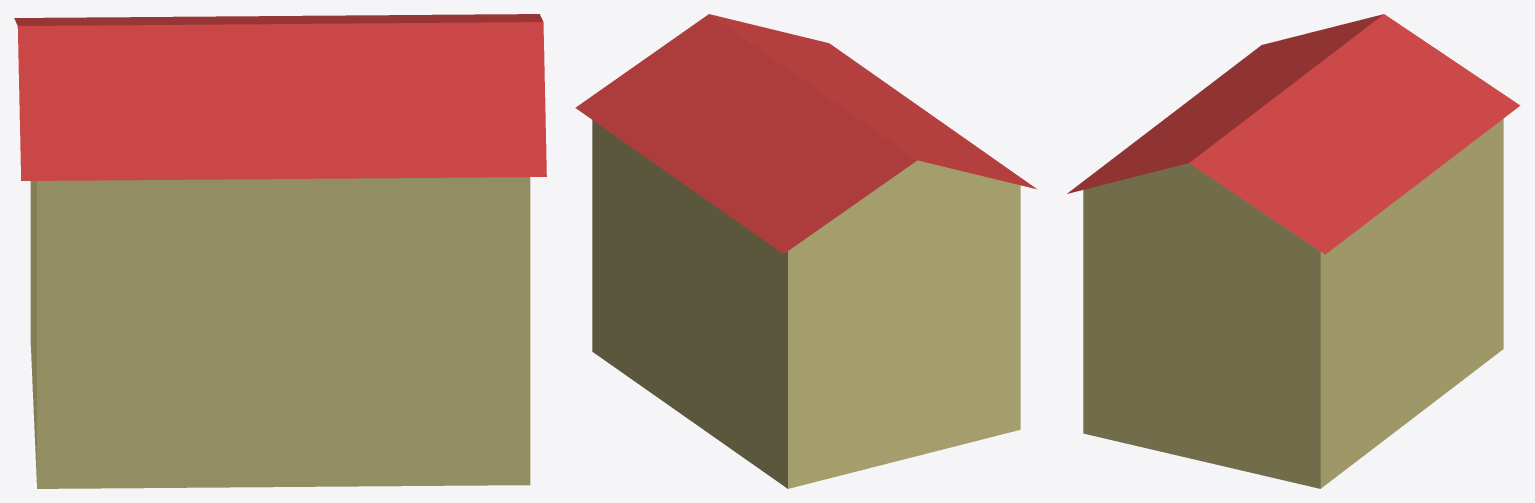
The picture shows the model from 3 angles, left to right: view 1: azimuth 30°, elevation 25°; view 2: azimuth 150°, elevation 25°; view 3: azimuth 270°, elevation 25°; orthographic projection. The views are drawn at different scales.
Bounding box in the file's own units: 9.99 × 9.15 × 6.69.
